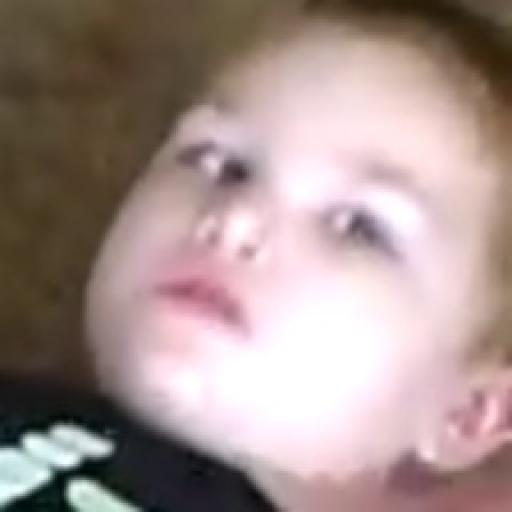Autism: (57, 62, 512, 489)
